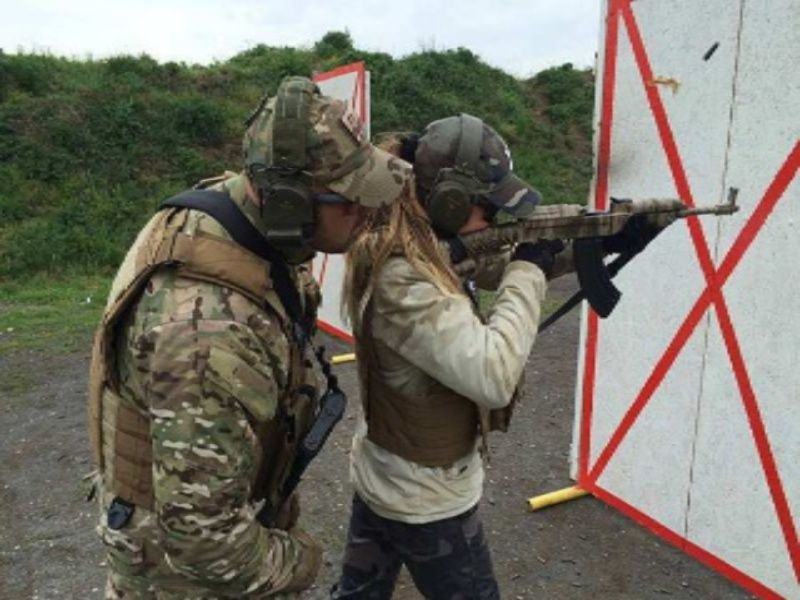person: (86, 75, 413, 600), (345, 114, 564, 600)
weapon: (461, 188, 740, 318)
